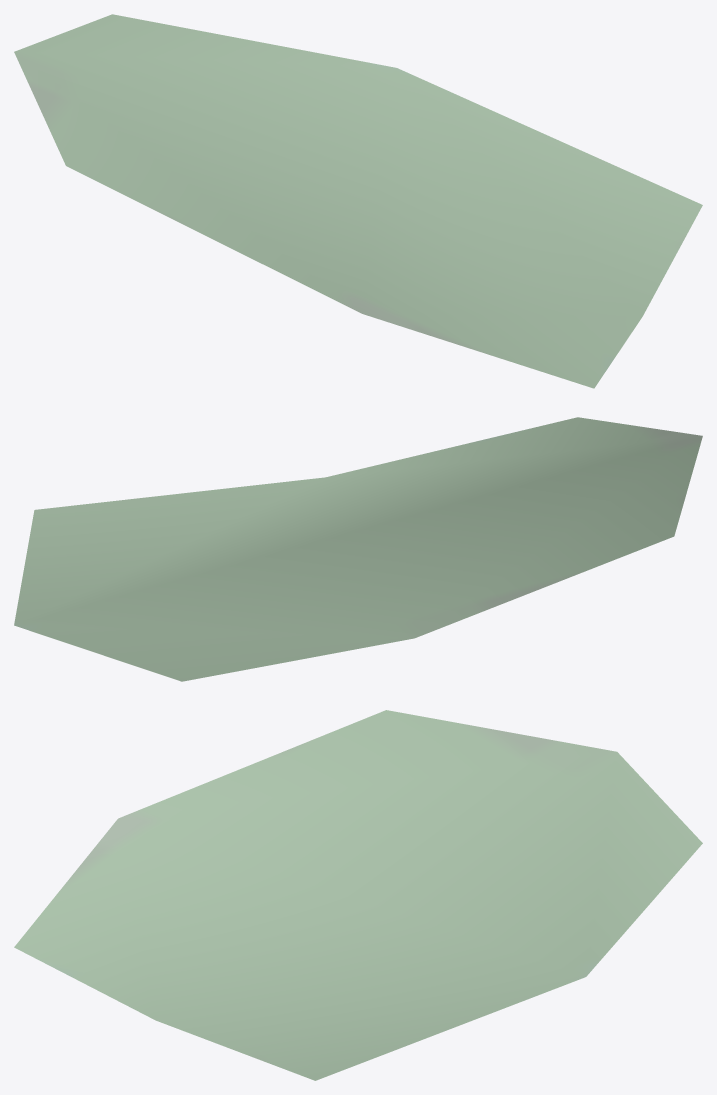
File: TROLLHOLE02_HOLECAP98.fbx
3 views of the same model, one above another, from view 1: azimuth 30°, elevation 25°; view 2: azimuth 150°, elevation 25°; view 3: azimuth 270°, elevation 25° (orthographic). The views are drawn at different scales.
Parts seen in each view (by area): view 1: TROLLHOLE02_HOLECAP98; view 2: TROLLHOLE02_HOLECAP98; view 3: TROLLHOLE02_HOLECAP98.
Part boxes in pixels (x1,y1,x2,y2): TROLLHOLE02_HOLECAP98: (14,14,702,388); TROLLHOLE02_HOLECAP98: (14,417,702,681); TROLLHOLE02_HOLECAP98: (14,710,702,1080).
Bounding box in the file's own units: 26344 × 6644 × 31594.
1 material, 1 textured.
